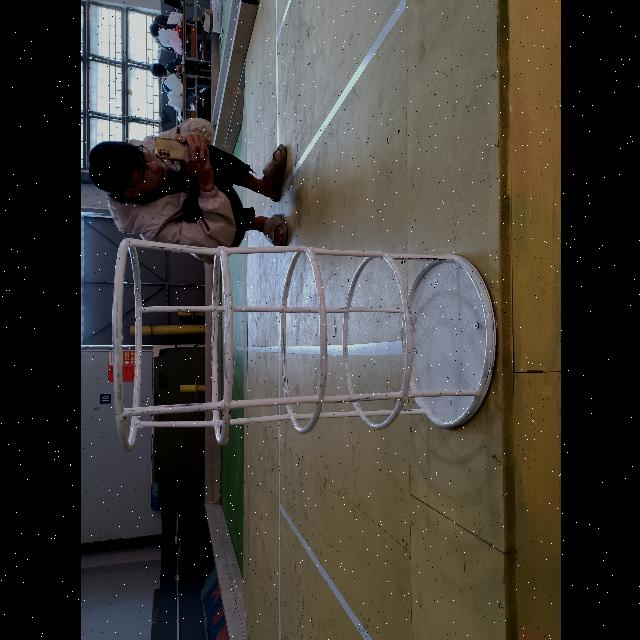S: (110, 234, 498, 454)
